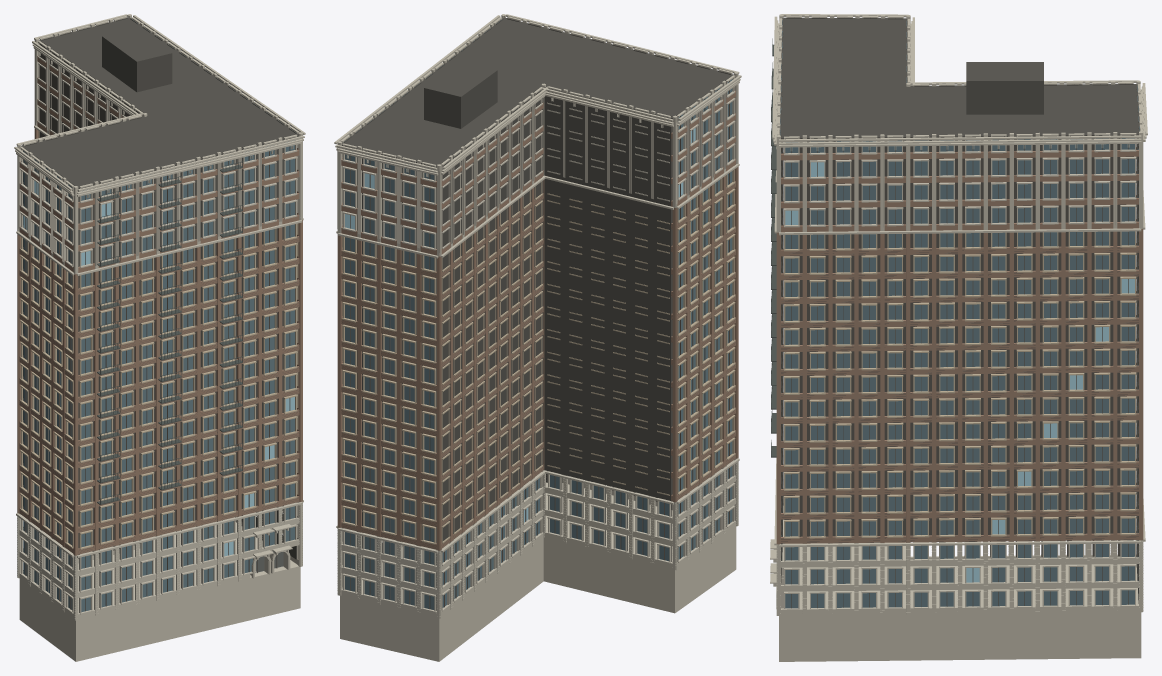
The model's file is bell_building.glb.
3 views of the same model, side by side, from view 1: azimuth 30°, elevation 25°; view 2: azimuth 150°, elevation 25°; view 3: azimuth 270°, elevation 25° (orthographic). The views are drawn at different scales.
Parts seen in each view (by area): view 1: Bedford limestone base and crown, Warm brown brick shaft, Dark service roof and mortar, Recessed blue grey panes, Pale terra cotta surrounds, Physical iron balcony rails, Dark bronze window sashes, Night occupied Bell panes; view 2: Dark service roof and mortar, Bedford limestone base and crown, Warm brown brick shaft, Pale terra cotta surrounds, Recessed blue grey panes, Dark bronze window sashes; view 3: Dark service roof and mortar, Bedford limestone base and crown, Recessed blue grey panes, Warm brown brick shaft, Pale terra cotta surrounds, Dark bronze window sashes, Physical iron balcony rails, Night occupied Bell panes.
Boxes of the visible parts, left/top/right/bottom form: Bedford limestone base and crown: left=14, top=14, right=305, bottom=661; Warm brown brick shaft: left=17, top=55, right=302, bottom=555; Dark service roof and mortar: left=20, top=17, right=298, bottom=612; Recessed blue grey panes: left=23, top=20, right=294, bottom=612; Pale terra cotta surrounds: left=20, top=131, right=298, bottom=549; Physical iron balcony rails: left=97, top=161, right=242, bottom=504; Dark bronze window sashes: left=25, top=21, right=293, bottom=611; Night occupied Bell panes: left=23, top=181, right=294, bottom=556; Dark service roof and mortar: left=341, top=17, right=735, bottom=610; Bedford limestone base and crown: left=334, top=14, right=741, bottom=661; Warm brown brick shaft: left=337, top=91, right=738, bottom=550; Pale terra cotta surrounds: left=342, top=169, right=735, bottom=544; Recessed blue grey panes: left=345, top=21, right=732, bottom=609; Dark bronze window sashes: left=346, top=21, right=729, bottom=609; Dark service roof and mortar: left=779, top=17, right=1140, bottom=607; Bedford limestone base and crown: left=770, top=14, right=1147, bottom=661; Recessed blue grey panes: left=780, top=20, right=1139, bottom=608; Warm brown brick shaft: left=776, top=147, right=1143, bottom=544; Pale terra cotta surrounds: left=784, top=231, right=1136, bottom=538; Dark bronze window sashes: left=779, top=17, right=1140, bottom=608; Physical iron balcony rails: left=771, top=38, right=776, bottom=457; Night occupied Bell panes: left=781, top=149, right=1138, bottom=582.
Size of the model in its own units: 46.36 by 95.4 by 58.58.
